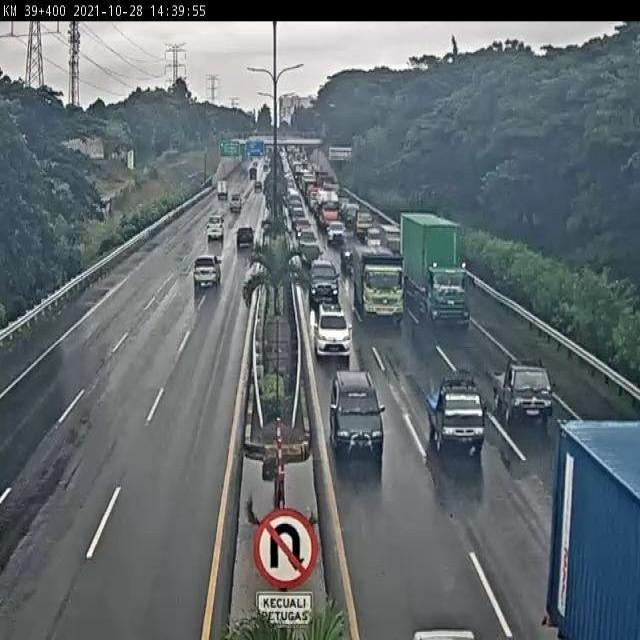big truck: (403, 208, 473, 323), (356, 245, 405, 318)
car: (330, 372, 385, 455), (426, 377, 483, 452), (491, 361, 553, 419), (313, 305, 351, 352), (308, 261, 341, 303), (192, 256, 218, 287), (299, 236, 323, 264), (342, 235, 364, 265), (380, 221, 401, 252), (350, 208, 372, 233), (206, 218, 226, 242), (326, 216, 345, 241), (235, 225, 255, 247), (229, 194, 244, 218), (362, 224, 381, 241)
